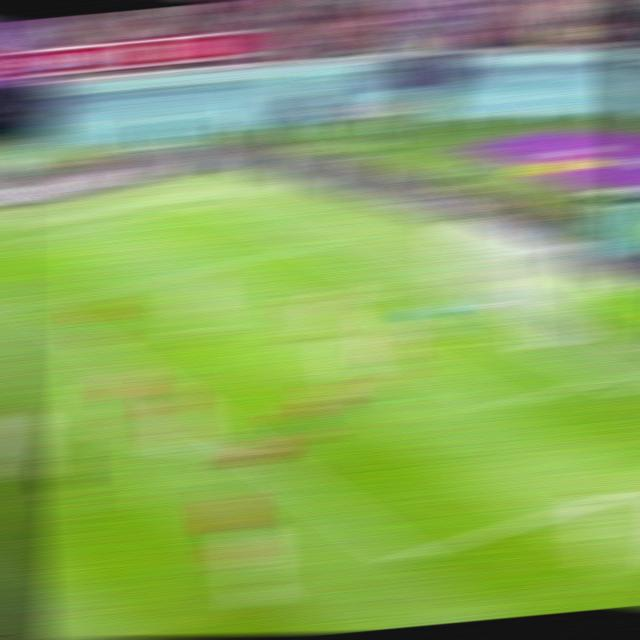bigarea_bottom_inner: (384, 542, 432, 572)
bigarea_top_inner: (17, 301, 51, 316)
bigarea_top_outter: (289, 240, 324, 252)
corner: (189, 200, 224, 208)
smallarea_bottom_inner: (481, 393, 522, 417)
smallarea_bottom_outter: (585, 368, 622, 386)
smallarea_top_outter: (383, 280, 418, 293)
top_arc_area_intersection: (109, 363, 140, 373)
